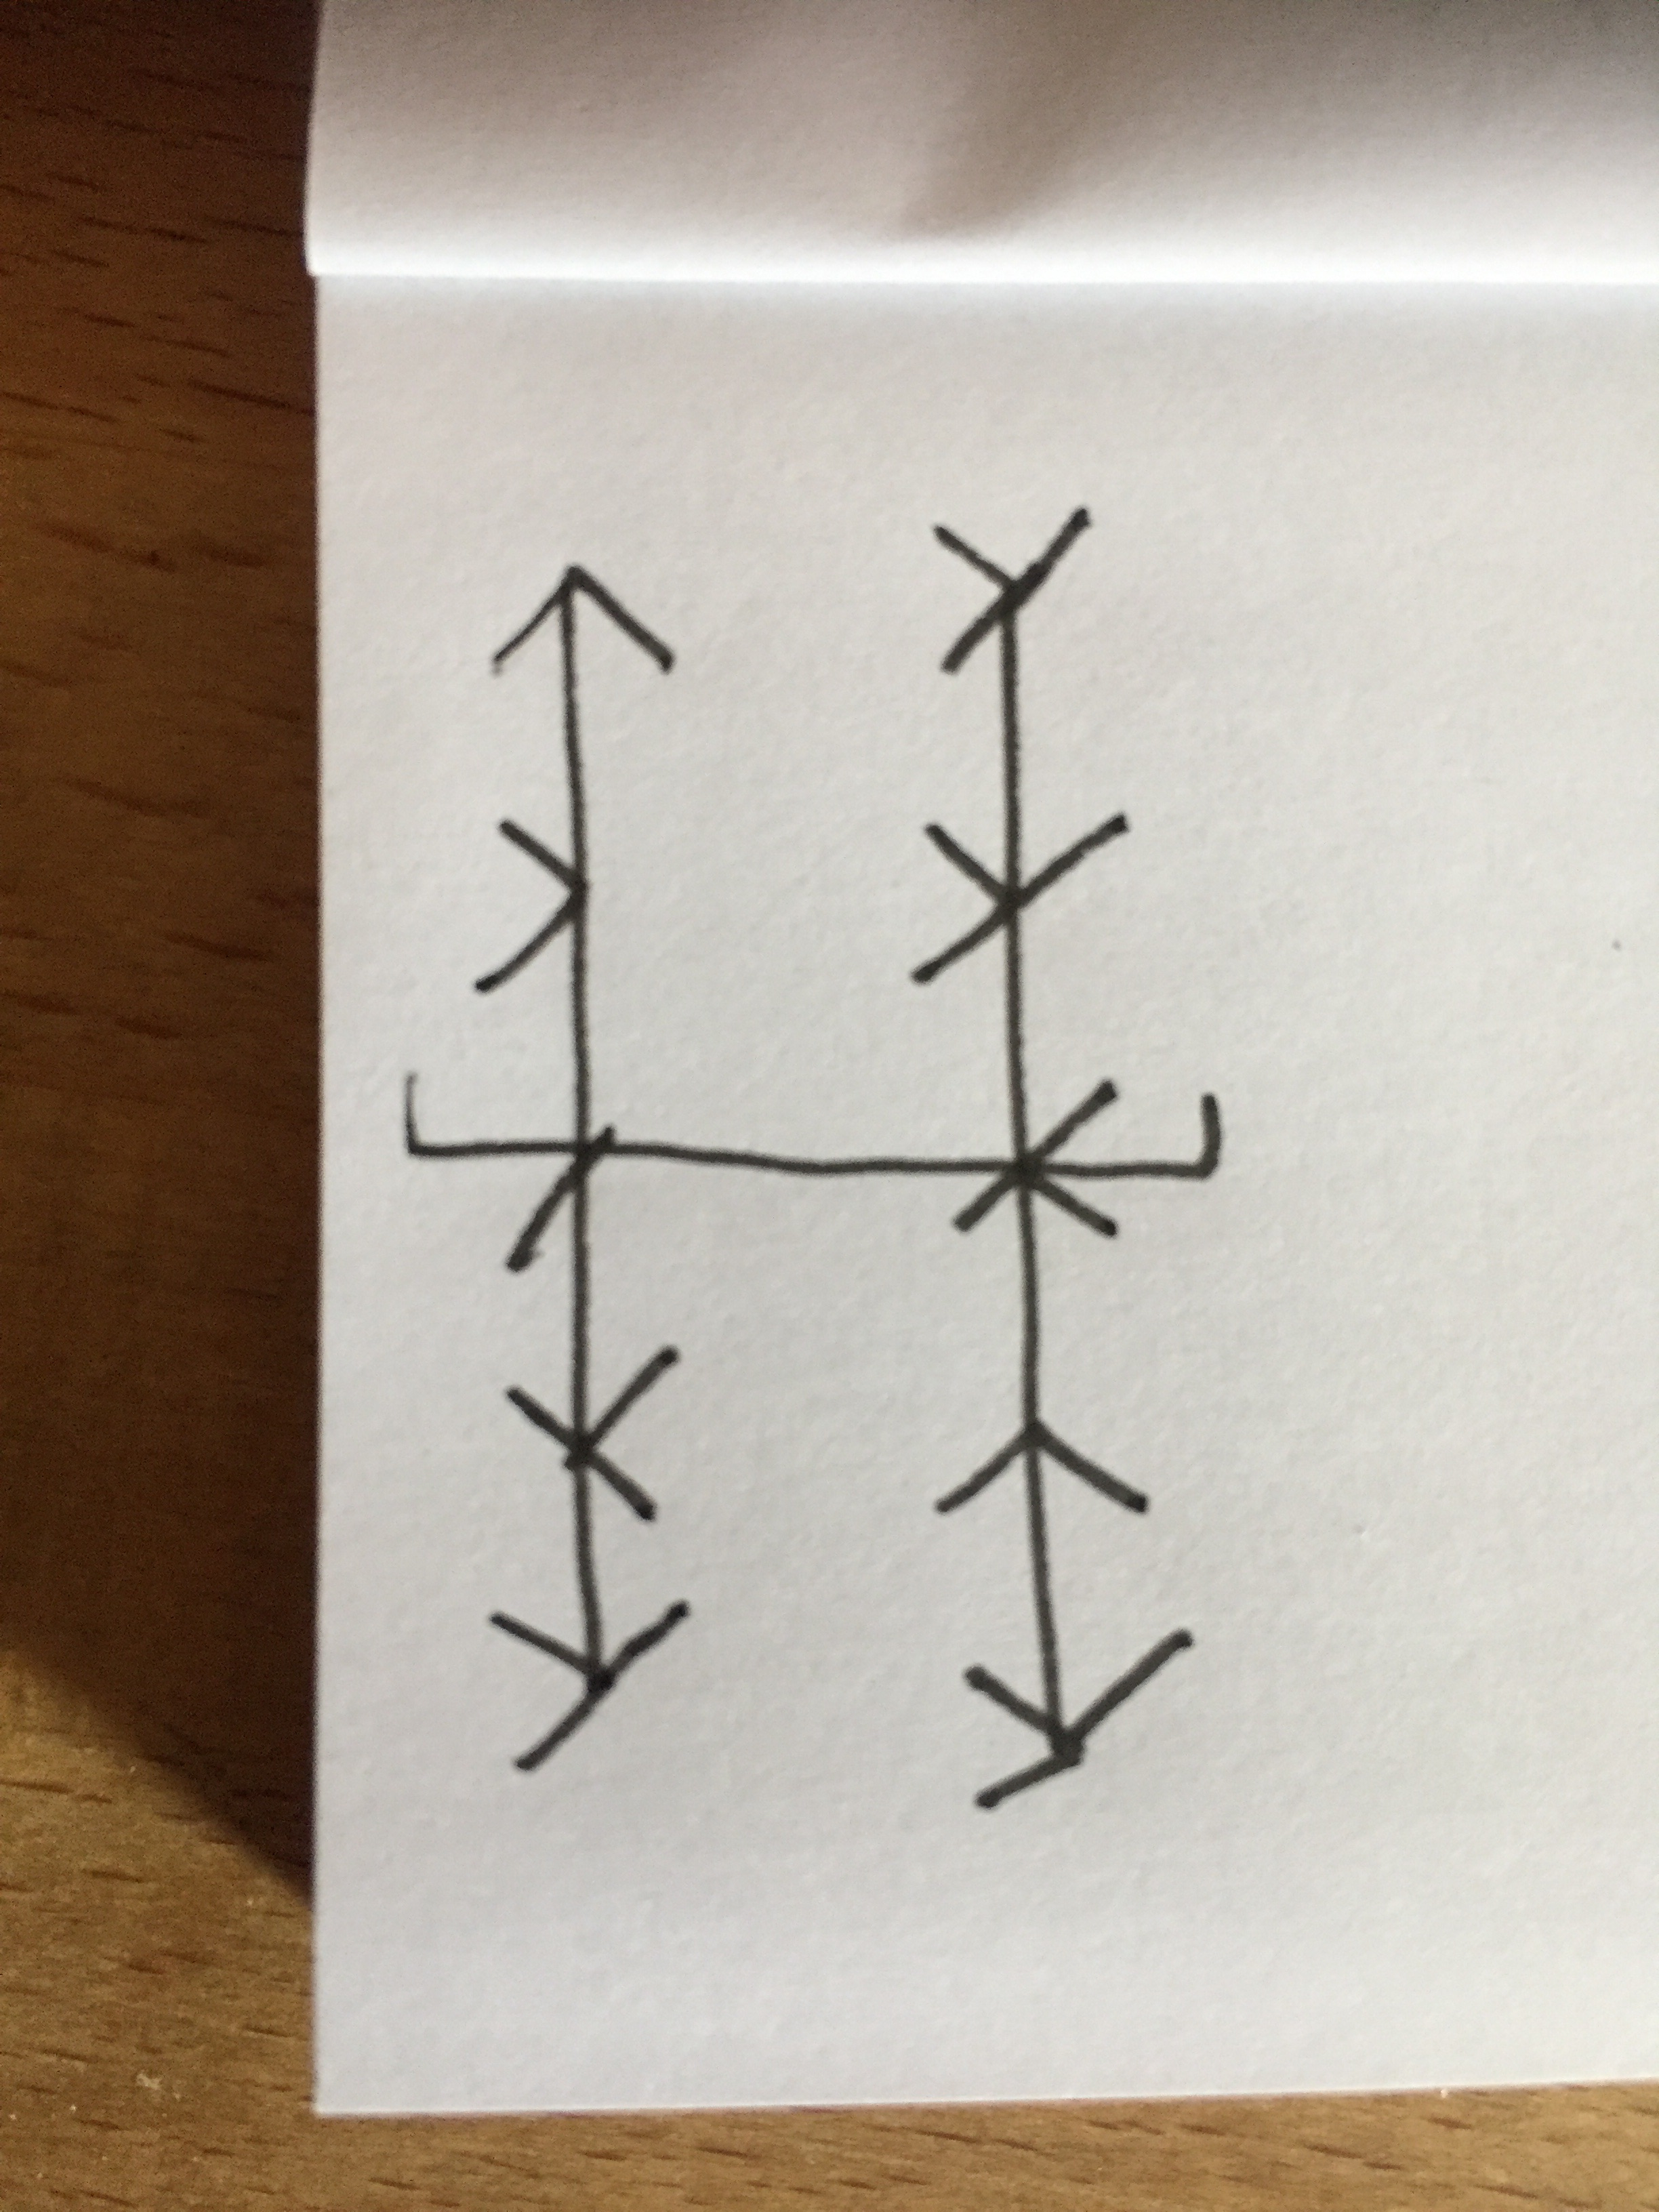Bar: (908, 505, 1195, 1808), (476, 564, 690, 1770)
Barcode: (399, 503, 1225, 1811)
End: (1115, 1090, 1223, 1183)
Start: (399, 1073, 570, 1163)
